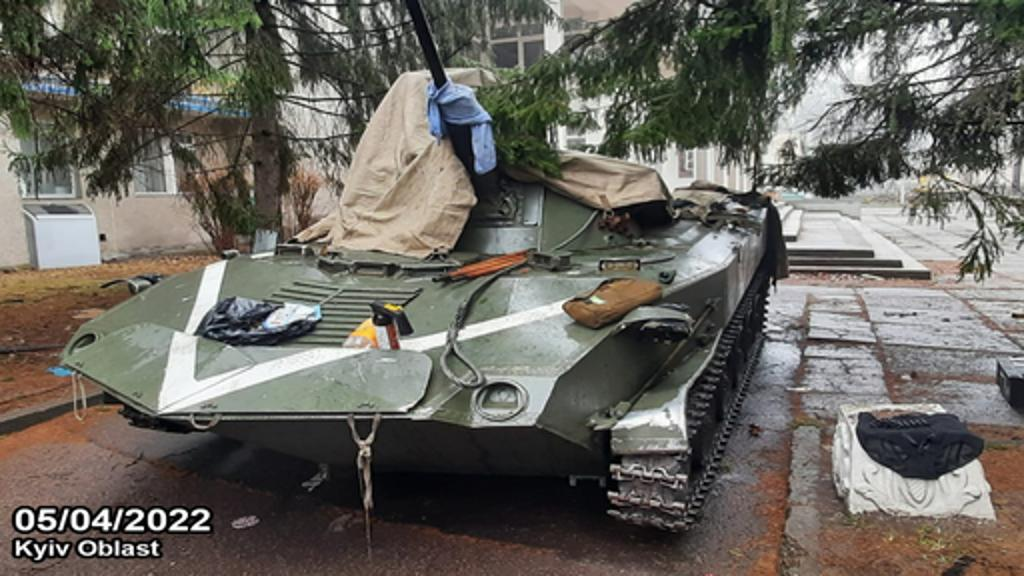APC-IFV: (60, 2, 786, 536)
